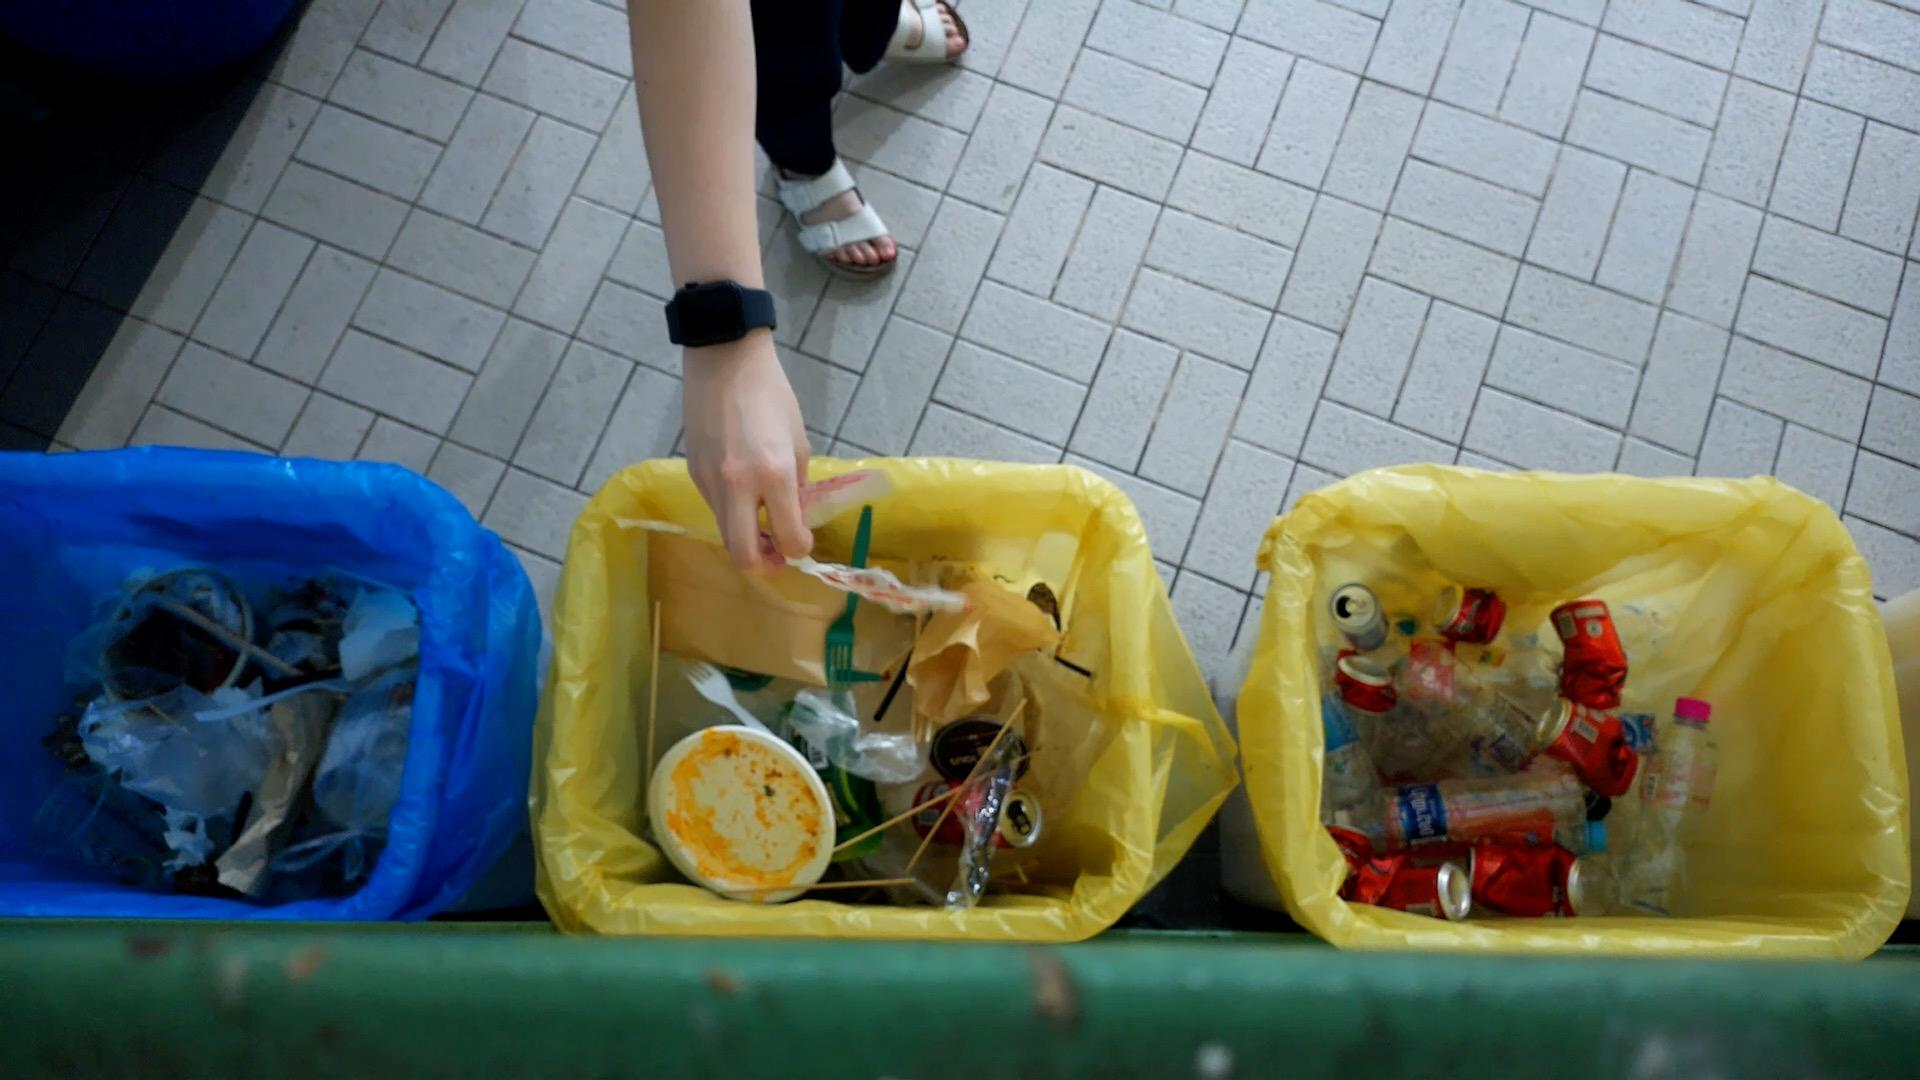can: (1536, 696, 1646, 803), (1458, 833, 1590, 919), (911, 777, 1044, 853), (1551, 596, 1630, 711), (1352, 849, 1476, 922), (1439, 579, 1511, 649), (1329, 584, 1391, 650), (1333, 653, 1398, 715)
filled plastic bag: (270, 688, 414, 886)
paper bag: (644, 525, 851, 682), (911, 571, 1062, 725), (210, 745, 320, 899)
plastic bottle: (1607, 694, 1726, 916), (1335, 760, 1594, 849), (1394, 634, 1545, 767)
plastic cup: (25, 766, 165, 894)
plastic cutlery: (943, 728, 1021, 909), (822, 502, 873, 691), (676, 658, 775, 733)
snack packaging: (767, 464, 971, 622)
sticks: (828, 745, 1039, 852), (907, 691, 1027, 869), (149, 593, 307, 680), (713, 873, 918, 898), (642, 596, 665, 778)
tissue paper: (332, 567, 421, 678)
